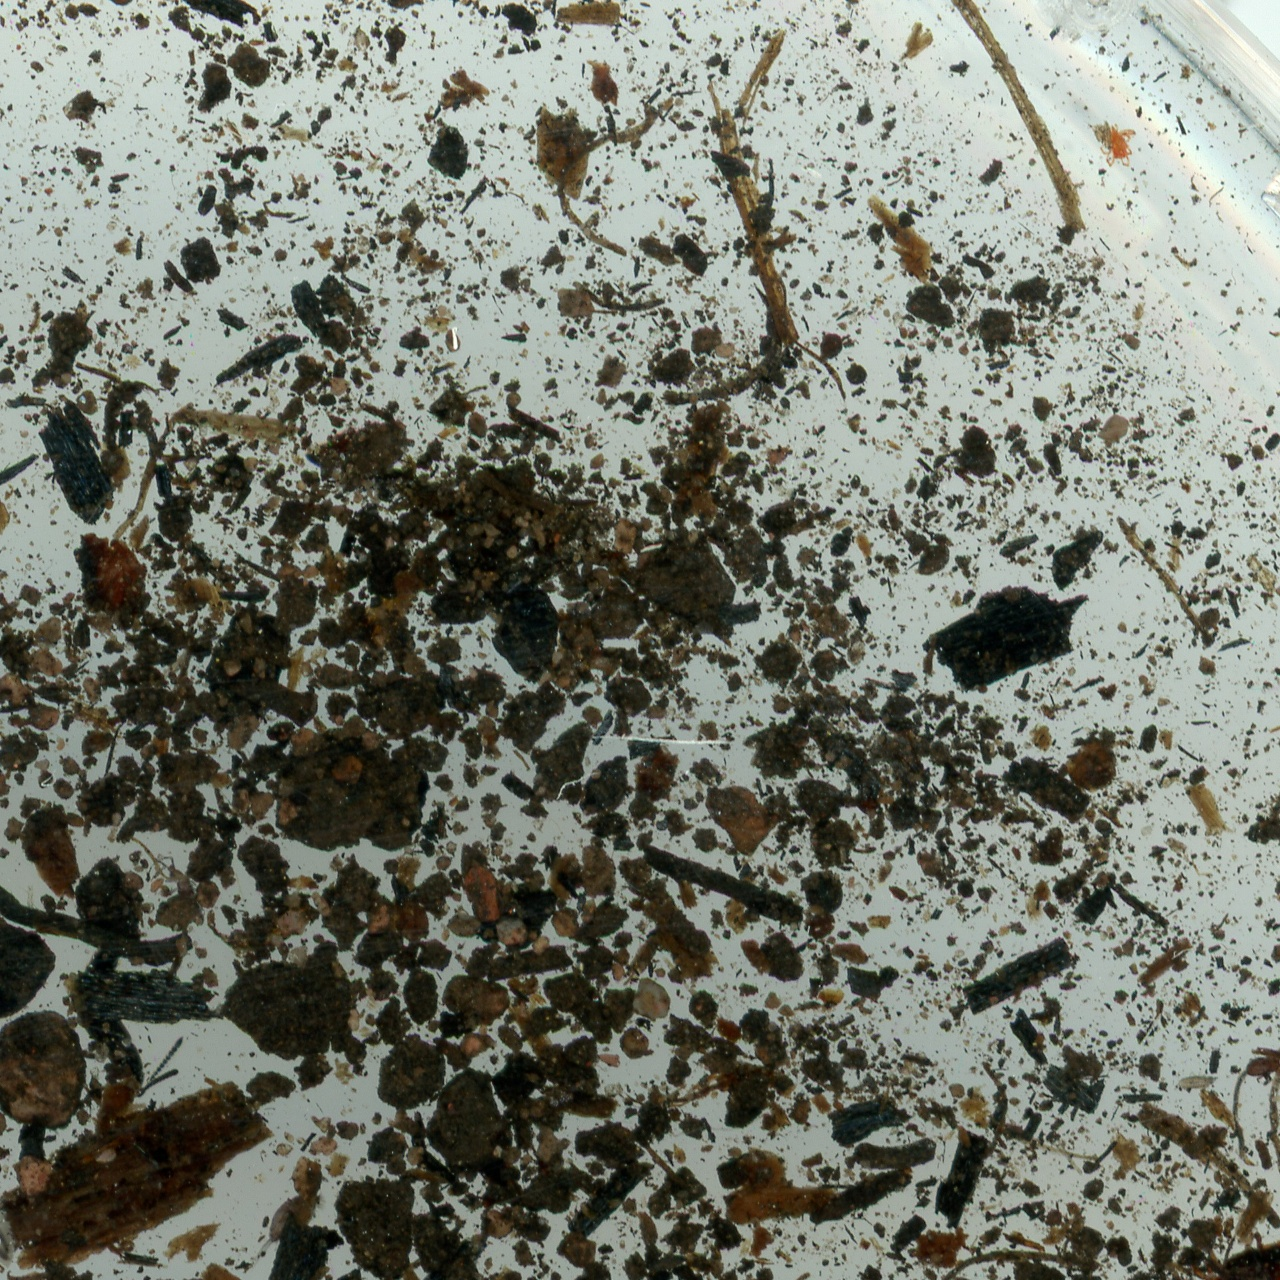arthropod: (63, 938, 188, 1121), (1114, 1187, 1280, 1280), (252, 1155, 329, 1267), (659, 1267, 819, 1280), (1098, 122, 1138, 168), (0, 1175, 18, 1275)
